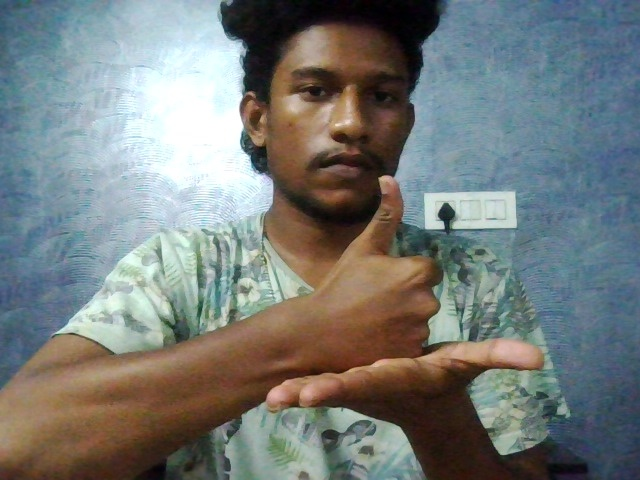help: (250, 177, 551, 430)
